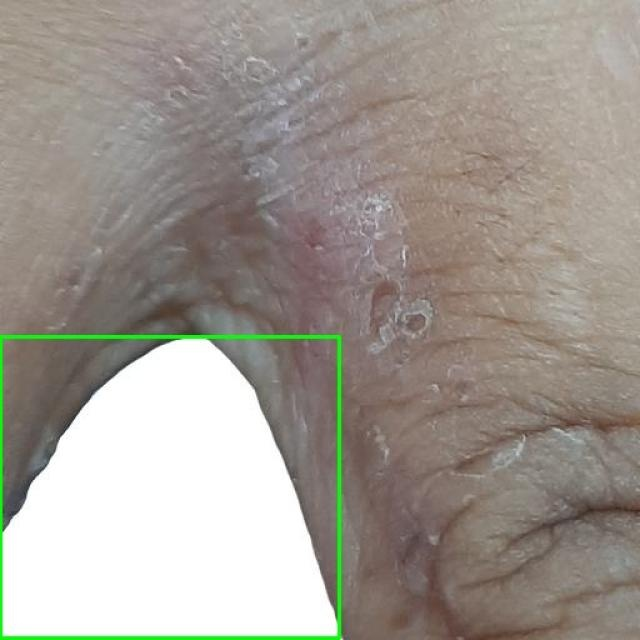Scabies: (0, 338, 340, 639)
